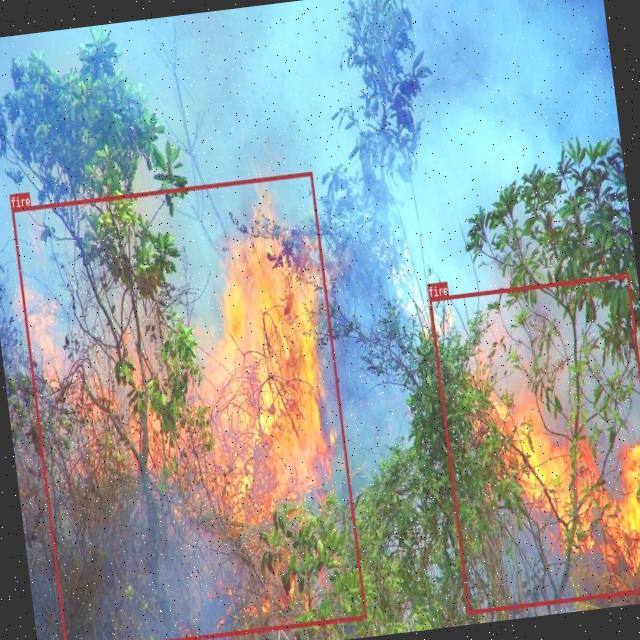fire: (10, 169, 366, 640), (427, 272, 640, 613)
